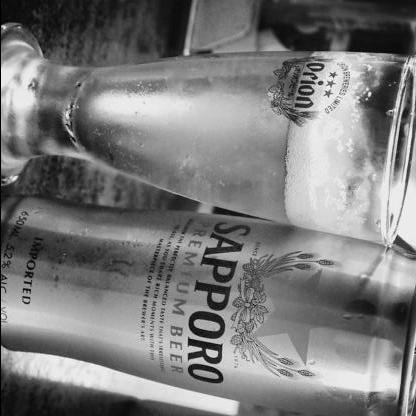alumunium_can: (1, 195, 415, 415)
objects: (0, 21, 415, 247)
